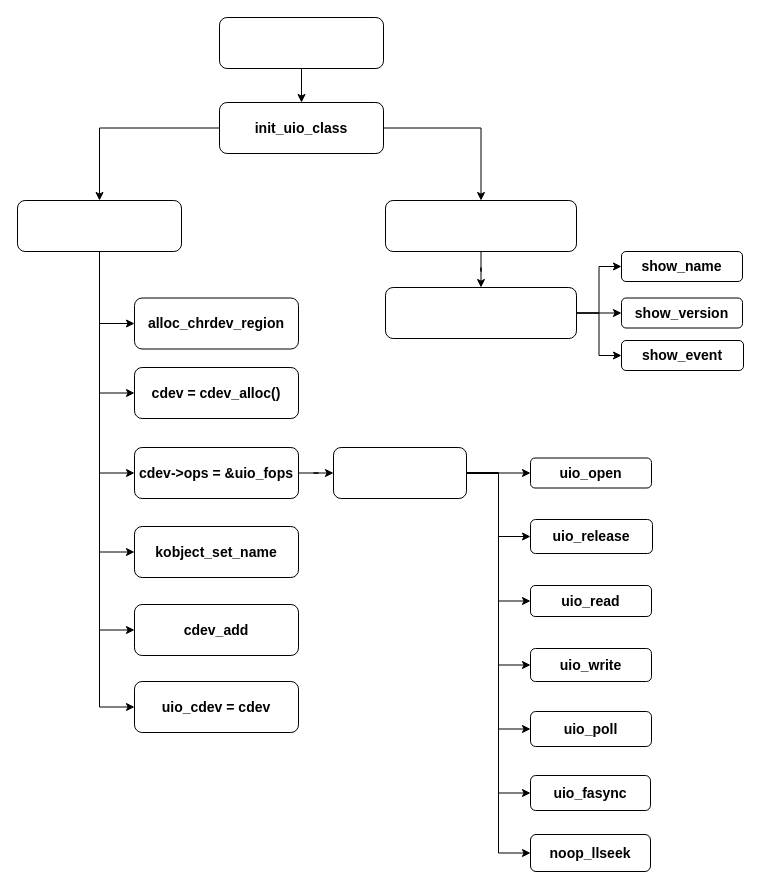
Some shapes in this 761 by 889 pixel diagram are drawn without their labels. Here are the shapes that lost their labels. From the top down, the box of each, then its label:
(218, 16, 384, 68): module_init(uio_init)
(16, 200, 182, 252): uio_major_init
(384, 200, 576, 252): class_register(&uio_class)
(384, 286, 576, 338): uio_class_attributes
(332, 446, 466, 498): file_operations
